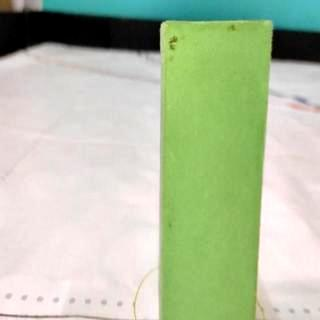greenbox: (160, 19, 273, 320)
